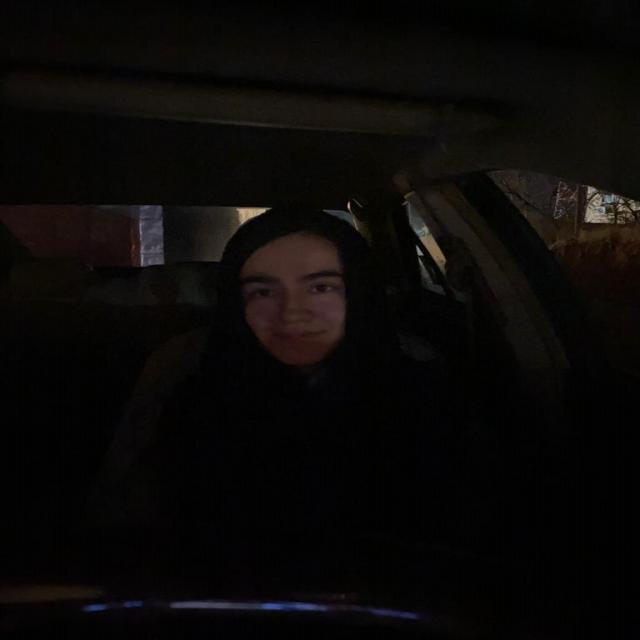person: (221, 219, 379, 367)
